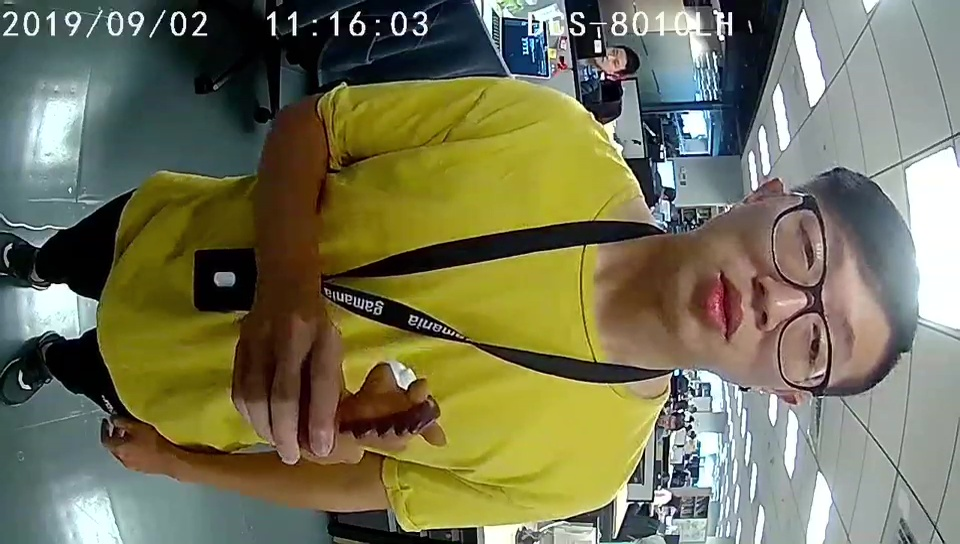horse: (339, 362, 447, 462)
